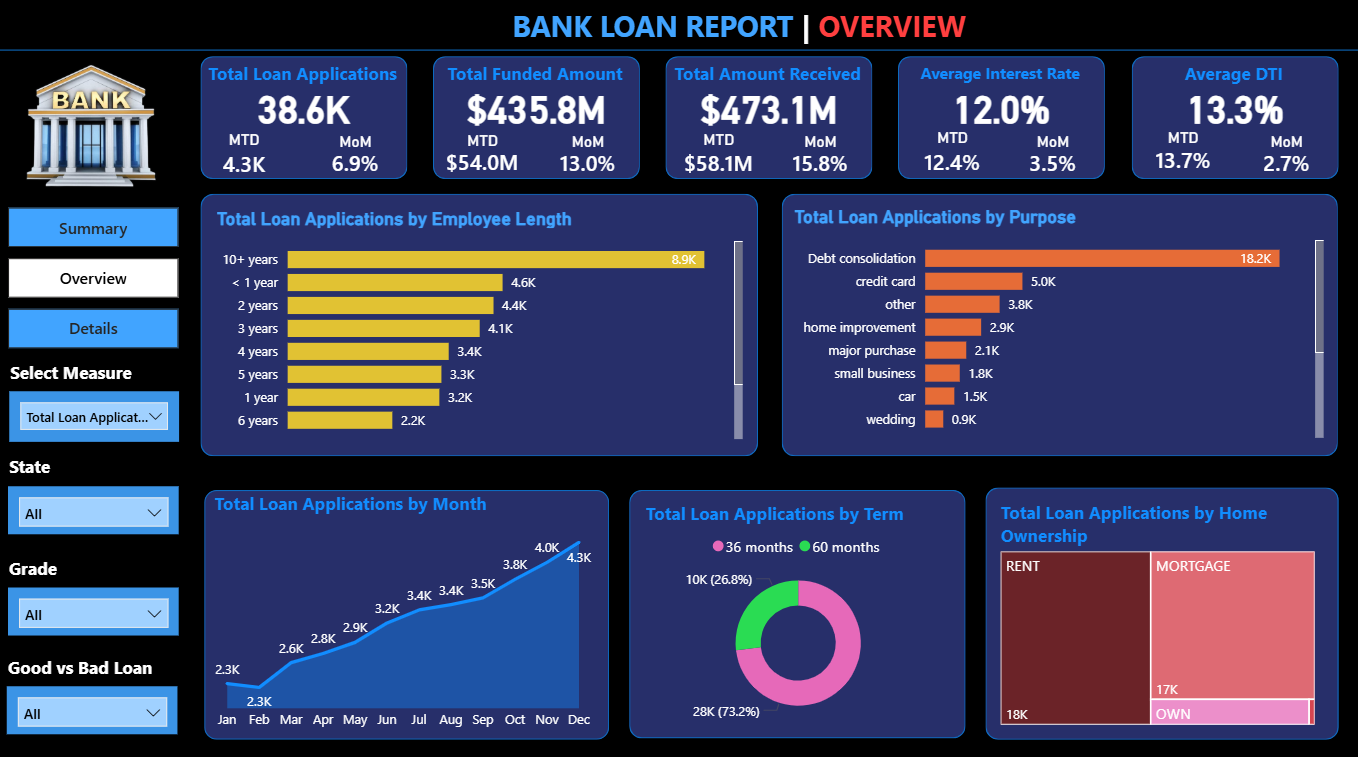

What the dashboard file says about the page in this screenshot:
{"tool":"powerbi","page":{"name":"Overview","canvas":[1280,720],"ordinal":1},"visuals":[{"type":"shape","box":[0,52.1,181.3,668.1],"z":0},{"type":"shape","box":[735.9,185.8,518.8,244.9],"z":0,"group":"g9"},{"type":"shape","box":[0,0,1280,51.9],"z":1000},{"type":"barChart","fields":{"Y":["Bank_Loan_Data.Total Loan Applications"],"Category":["Bank_Loan_Data.purpose"]},"box":[742.5,197.9,503.7,221.3],"z":1000,"group":"g9"},{"type":"textbox","box":[427.1,6,538.1,45.8],"z":2000},{"type":"group","id":"g1","title":"Group 1","box":[171.3,56.7,234.8,118.2],"z":3000},{"type":"group","id":"g2","title":"Group 1","box":[388.5,56.9,234.8,114.9],"z":4000},{"type":"group","id":"g3","title":"Group 1","box":[605.3,56.9,234.8,117],"z":5000},{"type":"group","id":"g4","title":"Group 1","box":[822,56.9,234.8,115.8],"z":6000},{"type":"shape","box":[193.6,57,193,114.6],"z":6500,"group":"g1"},{"type":"shape","box":[410.8,57.2,193,114.6],"z":6500,"group":"g2"},{"type":"shape","box":[627.6,57.2,193,114.6],"z":6500,"group":"g3"},{"type":"shape","box":[844.3,57.2,193,114.6],"z":6500,"group":"g4"},{"type":"shape","box":[1061.9,57.2,193,114.6],"z":6500,"group":"g5"},{"type":"card","fields":{"Values":["Bank_Loan_Data.Total Loan Applications"]},"box":[216.2,75.9,146.2,53.9],"z":6750,"group":"g1"},{"type":"card","fields":{"Values":["Bank_Loan_Data.Total Funded Amount"]},"box":[433.4,76.1,146.2,53.9],"z":6750,"group":"g2"},{"type":"card","fields":{"Values":["Bank_Loan_Data.Total Amount Received"]},"box":[650.2,76.1,146.2,53.9],"z":6750,"group":"g3"},{"type":"card","fields":{"Values":["Bank_Loan_Data.Avg Interest Rate"]},"box":[866.9,76.1,146.2,53.9],"z":6750,"group":"g4"},{"type":"card","fields":{"Values":["Bank_Loan_Data.Avg DTI"]},"box":[1084.5,76.1,146.2,53.9],"z":6750,"group":"g5"},{"type":"textbox","box":[171.3,56.7,234.8,37.2],"z":7000,"group":"g1"},{"type":"textbox","box":[388.5,56.9,234.8,37.2],"z":7000,"group":"g2"},{"type":"textbox","box":[605.3,56.9,234.8,37.2],"z":7000,"group":"g3"},{"type":"textbox","box":[822,56.9,234.8,37.2],"z":7000,"group":"g4"},{"type":"group","id":"g5","title":"Group 1","box":[1039.6,56.9,234.8,114.9],"z":7000},{"type":"textbox","box":[1039.6,56.9,234.8,37.2],"z":7000,"group":"g5"},{"type":"shape","box":[197.6,461.3,377.6,232.8],"z":7000,"group":"g7"},{"type":"card","title":"MoM","fields":{"Values":["Bank_Loan_Data.MoM Loan Applications"]},"box":[302.1,127.2,72.4,44.3],"z":7500,"group":"g1"},{"type":"card","title":"MoM","fields":{"Values":["Bank_Loan_Data.MoM Total Funded Amount"]},"box":[519.3,127.4,72.4,44.3],"z":7500,"group":"g2"},{"type":"card","title":"MoM","fields":{"Values":["Bank_Loan_Data.MoM Total Amount Received"]},"box":[736.1,127.4,72.4,44.3],"z":7500,"group":"g3"},{"type":"card","title":"MoM","fields":{"Values":["Bank_Loan_Data.MoM Avg Interest Rate"]},"box":[952.8,127.4,72.4,44.3],"z":7500,"group":"g4"},{"type":"card","title":"MoM","fields":{"Values":["Bank_Loan_Data.MoM Avg DTI"]},"box":[1170.4,127.4,72.4,44.3],"z":7500,"group":"g5"},{"type":"card","title":"MTD","fields":{"Values":["Bank_Loan_Data.MTD Avg Interest Rate"]},"box":[855.8,124.5,78.4,48.3],"z":8000,"group":"g4"},{"type":"card","title":"MTD","fields":{"Values":["Bank_Loan_Data.MTD Avg DTI"]},"box":[1066.1,124.5,86.9,44.6],"z":8000,"group":"g5"},{"type":"card","title":"MTD","fields":{"Values":["Bank_Loan_Data.MTD Loan Applications"]},"box":[200.2,125.5,67.6,49.5],"z":8000,"group":"g1"},{"type":"card","title":"MTD","fields":{"Values":["Bank_Loan_Data.MTD Amount Received"]},"box":[636.7,125.7,80.8,48.3],"z":8000,"group":"g3"},{"type":"card","title":"MTD","fields":{"Values":["Bank_Loan_Data.MTD Funded Amount"]},"box":[416.3,126.9,80.8,44.6],"z":8000,"group":"g2"},{"type":"slicer","fields":{"Values":["Bank_Loan_Data.address_state"]},"box":[14.5,458.4,159.2,44.6],"z":8000},{"type":"textbox","box":[4.8,423.5,59.1,38.6],"z":9000},{"type":"slicer","fields":{"Values":["Bank_Loan_Data.grade"]},"box":[14.5,552.5,159.2,44.6],"z":10000},{"type":"textbox","box":[2.4,518.8,70,38.6],"z":11000},{"type":"slicer","fields":{"Values":["Bank_Loan_Data.Good vs Bad Loan"]},"box":[13.3,644.2,159.2,44.6],"z":12000},{"type":"textbox","box":[3.6,610.5,155.6,38.6],"z":13000},{"type":"slicer","fields":{"Values":["Select Measure.Select Measure"]},"box":[15.7,369.2,158,47],"z":14000},{"type":"textbox","box":[8.4,335.4,129.1,38.6],"z":15000},{"type":"areaChart","fields":{"Y":["Bank_Loan_Data.Total Loan Applications"],"Category":["Date Table.Month"]},"box":[201.8,462.2,361.9,231.6],"z":15000,"group":"g7"},{"type":"group","id":"g6","title":"Group 2","box":[194,185.8,520,244.9],"z":16000},{"type":"shape","box":[593.4,462.1,313.7,231.6],"z":16000,"group":"g10"},{"type":"shape","box":[925.3,459.9,329.4,235.3],"z":17000,"group":"g11"},{"type":"group","id":"g7","title":"Group 3","box":[197.6,461.3,377.6,232.8],"z":17000},{"type":"donutChart","fields":{"Y":["Bank_Loan_Data.Total Loan Applications"],"Category":["Bank_Loan_Data.term"]},"box":[603.8,472.5,294.6,213.5],"z":17000,"group":"g10"},{"type":"group","id":"g8","title":"Group 4","box":[593.4,462.1,313.7,231.6],"z":18000},{"type":"group","id":"g9","title":"Group 6","box":[735.9,185.8,518.8,244.9],"z":19000},{"type":"group","id":"g10","title":"Group 5","box":[593.4,462.1,313.7,231.6],"z":19002,"group":"g8"},{"type":"shape","box":[194,185.8,520,244.9],"z":20000,"group":"g6"},{"type":"group","id":"g11","title":"Group 7","box":[925.3,459.9,329.4,235.3],"z":20000},{"type":"image","box":[1.2,49.5,178.6,152],"z":21000},{"type":"barChart","fields":{"Y":["Bank_Loan_Data.Total Loan Applications"],"Category":["Bank_Loan_Data.emp_length"]},"box":[203.9,198.1,500.4,221.3],"z":21000,"group":"g6"},{"type":"treemap","fields":{"Values":["Bank_Loan_Data.Total Loan Applications"],"Group":["Bank_Loan_Data.home_ownership"]},"box":[935.1,471.8,302.8,214.7],"z":21000,"group":"g11"},{"type":"pageNavigator","box":[14.5,197.9,159.2,133.9],"z":22000}]}

Visuals, with their boxes in screenshot pixels (x1, y1, x2, y2), scaled from the page's 1280x720 canvas onto the 1358x757 screenshot:
shape: BBox(0, 55, 192, 756)
shape: BBox(781, 195, 1331, 453)
shape: BBox(0, 0, 1357, 55)
barChart - Bank_Loan_Data.Total Loan Applications x Bank_Loan_Data.purpose: BBox(788, 208, 1322, 441)
textbox: BBox(453, 6, 1024, 54)
"Group 1" group: BBox(182, 60, 431, 184)
"Group 1" group: BBox(412, 60, 661, 181)
"Group 1" group: BBox(642, 60, 891, 183)
"Group 1" group: BBox(872, 60, 1121, 182)
shape: BBox(205, 60, 410, 180)
shape: BBox(436, 60, 641, 181)
shape: BBox(666, 60, 871, 181)
shape: BBox(896, 60, 1101, 181)
shape: BBox(1127, 60, 1331, 181)
card - Bank_Loan_Data.Total Loan Applications: BBox(229, 80, 384, 136)
card - Bank_Loan_Data.Total Funded Amount: BBox(460, 80, 615, 137)
card - Bank_Loan_Data.Total Amount Received: BBox(690, 80, 845, 137)
card - Bank_Loan_Data.Avg Interest Rate: BBox(920, 80, 1075, 137)
card - Bank_Loan_Data.Avg DTI: BBox(1151, 80, 1306, 137)
textbox: BBox(182, 60, 431, 99)
textbox: BBox(412, 60, 661, 99)
textbox: BBox(642, 60, 891, 99)
textbox: BBox(872, 60, 1121, 99)
"Group 1" group: BBox(1103, 60, 1352, 181)
textbox: BBox(1103, 60, 1352, 99)
shape: BBox(210, 485, 610, 730)
"MoM" card: BBox(321, 134, 397, 180)
"MoM" card: BBox(551, 134, 628, 181)
"MoM" card: BBox(781, 134, 858, 181)
"MoM" card: BBox(1011, 134, 1088, 181)
"MoM" card: BBox(1242, 134, 1319, 181)
"MTD" card: BBox(908, 131, 991, 182)
"MTD" card: BBox(1131, 131, 1223, 178)
"MTD" card: BBox(212, 132, 284, 184)
"MTD" card: BBox(675, 132, 761, 183)
"MTD" card: BBox(442, 133, 527, 180)
slicer - Bank_Loan_Data.address_state: BBox(15, 482, 184, 529)
textbox: BBox(5, 445, 68, 486)
slicer - Bank_Loan_Data.grade: BBox(15, 581, 184, 628)
textbox: BBox(3, 545, 77, 586)
slicer - Bank_Loan_Data.Good vs Bad Loan: BBox(14, 677, 183, 724)
textbox: BBox(4, 642, 169, 682)
slicer - Select Measure.Select Measure: BBox(17, 388, 184, 438)
textbox: BBox(9, 353, 146, 393)
areaChart - Bank_Loan_Data.Total Loan Applications x Date Table.Month: BBox(214, 486, 598, 729)
"Group 2" group: BBox(206, 195, 758, 453)
shape: BBox(630, 486, 962, 729)
shape: BBox(982, 484, 1331, 731)
"Group 3" group: BBox(210, 485, 610, 730)
donutChart - Bank_Loan_Data.Total Loan Applications x Bank_Loan_Data.term: BBox(641, 497, 953, 721)
"Group 4" group: BBox(630, 486, 962, 729)
"Group 6" group: BBox(781, 195, 1331, 453)
"Group 5" group: BBox(630, 486, 962, 729)
shape: BBox(206, 195, 758, 453)
"Group 7" group: BBox(982, 484, 1331, 731)
image: BBox(1, 52, 191, 212)
barChart - Bank_Loan_Data.Total Loan Applications x Bank_Loan_Data.emp_length: BBox(216, 208, 747, 441)
treemap - Bank_Loan_Data.Total Loan Applications x Bank_Loan_Data.home_ownership: BBox(992, 496, 1313, 722)
pageNavigator: BBox(15, 208, 184, 349)
